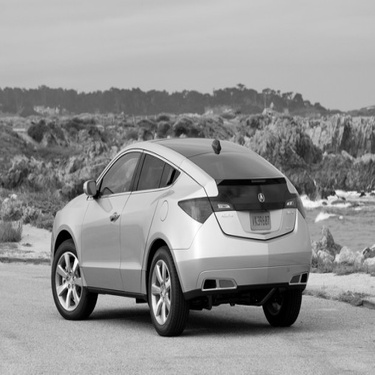car: (41, 133, 318, 340)
